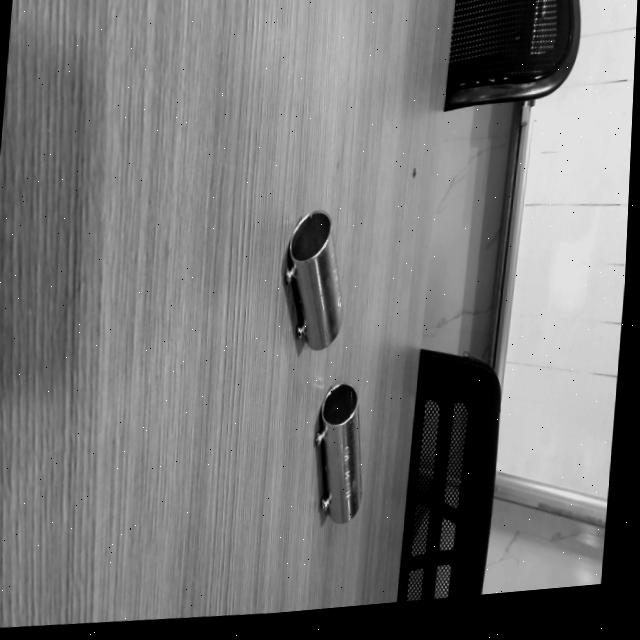Co_Lon: (313, 383, 361, 524)
Co_Nho: (276, 209, 347, 353)
